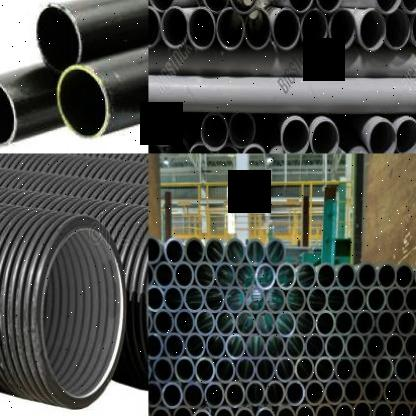pipe: (41, 225, 124, 400), (56, 62, 111, 141), (33, 2, 83, 73), (0, 73, 19, 146), (216, 7, 244, 52), (187, 7, 215, 51), (273, 8, 300, 51), (301, 8, 328, 51), (161, 6, 187, 50), (245, 8, 271, 50), (330, 10, 357, 50), (360, 10, 386, 51), (200, 114, 228, 151), (281, 119, 309, 154), (149, 111, 176, 146), (386, 10, 410, 49), (229, 113, 255, 149), (369, 121, 397, 154), (312, 121, 339, 154), (396, 119, 416, 154), (174, 355, 196, 384), (161, 380, 182, 410), (204, 380, 225, 410), (174, 308, 196, 336), (152, 356, 174, 384), (225, 380, 246, 409), (183, 381, 204, 410), (194, 260, 215, 289), (235, 261, 256, 290), (275, 261, 296, 290), (266, 285, 286, 315), (164, 331, 184, 361), (195, 355, 215, 385), (184, 236, 204, 266), (215, 260, 235, 290), (354, 309, 376, 336), (153, 308, 174, 336), (235, 309, 256, 337), (235, 356, 256, 384), (245, 238, 266, 266), (164, 284, 184, 313), (184, 284, 204, 313), (245, 285, 265, 314), (346, 285, 366, 314), (225, 285, 245, 314), (307, 285, 327, 314), (376, 308, 396, 337), (215, 308, 235, 337), (396, 308, 416, 337), (275, 309, 295, 338), (215, 356, 235, 385), (285, 379, 305, 408), (226, 237, 246, 266), (154, 260, 174, 289), (174, 260, 194, 289), (296, 261, 316, 290), (316, 261, 336, 290), (336, 261, 356, 290), (256, 261, 276, 290), (204, 285, 224, 313), (286, 286, 306, 314), (195, 308, 215, 336), (296, 309, 316, 337), (185, 332, 205, 360), (365, 332, 385, 360), (285, 333, 305, 361), (265, 333, 285, 361), (374, 355, 394, 383), (394, 355, 414, 383), (335, 355, 355, 383), (256, 356, 276, 384), (305, 379, 325, 407), (265, 380, 285, 408), (205, 237, 225, 265), (164, 237, 184, 265), (354, 356, 375, 382), (326, 286, 346, 313), (366, 286, 386, 313), (334, 309, 354, 336), (345, 333, 365, 360), (206, 333, 226, 360), (226, 333, 246, 360), (245, 333, 265, 360), (305, 333, 325, 360), (325, 333, 345, 360), (295, 356, 315, 383), (314, 356, 334, 383), (384, 378, 404, 405), (324, 379, 344, 406), (246, 379, 264, 409), (357, 262, 377, 289), (256, 309, 275, 337), (266, 238, 285, 266), (148, 6, 160, 50), (363, 378, 383, 404), (344, 378, 363, 405), (316, 309, 334, 337), (386, 332, 404, 360), (276, 356, 294, 384), (378, 262, 396, 290), (396, 262, 414, 290), (387, 286, 405, 313), (148, 331, 164, 360), (148, 284, 164, 312), (229, 0, 258, 14), (148, 235, 162, 264), (148, 380, 162, 408), (148, 0, 177, 13), (202, 0, 229, 13), (375, 0, 402, 13), (352, 399, 372, 416), (403, 378, 416, 404), (164, 140, 188, 154), (404, 332, 416, 359), (372, 400, 392, 416), (288, 0, 314, 12), (317, 0, 343, 12), (392, 400, 411, 416), (405, 286, 416, 313), (334, 401, 353, 416), (315, 402, 334, 416), (296, 402, 315, 416), (187, 144, 213, 154), (150, 405, 172, 416), (172, 404, 192, 416), (276, 403, 294, 416), (214, 405, 234, 416), (256, 405, 276, 416), (234, 405, 254, 416), (192, 406, 213, 416), (215, 146, 240, 154), (242, 146, 266, 154), (402, 0, 416, 13), (148, 259, 154, 288), (412, 8, 416, 48), (413, 354, 416, 382), (411, 400, 416, 416)
